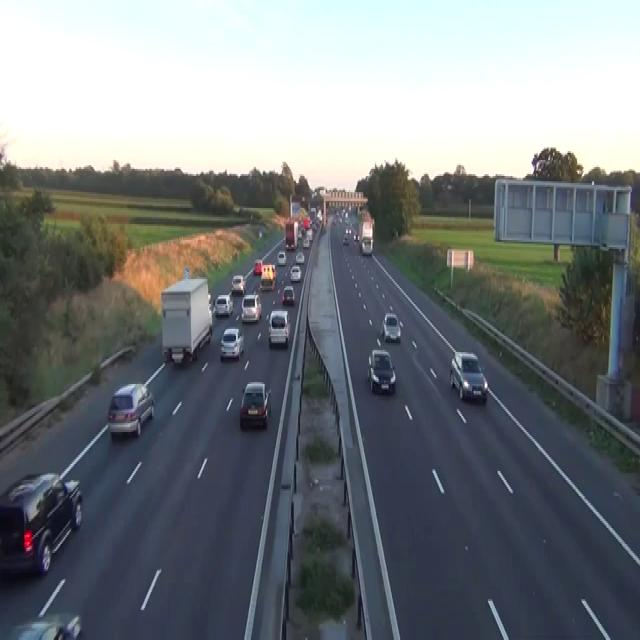Car: (0, 471, 82, 576), (1, 576, 83, 638), (107, 382, 155, 438), (449, 350, 488, 402), (7, 612, 82, 638), (239, 381, 271, 428), (367, 348, 396, 394), (267, 310, 290, 348), (220, 327, 244, 361), (381, 311, 402, 341), (240, 293, 261, 322), (213, 294, 233, 316), (260, 263, 276, 290), (282, 284, 295, 306), (230, 274, 245, 293), (262, 263, 276, 279), (207, 292, 212, 336), (360, 237, 372, 254), (362, 220, 373, 238), (289, 265, 301, 281), (253, 258, 262, 274), (277, 251, 286, 265), (305, 228, 313, 242), (295, 251, 304, 263), (207, 292, 212, 311), (303, 215, 310, 228), (285, 240, 295, 249), (271, 263, 276, 277), (311, 219, 318, 229), (342, 234, 349, 243), (302, 238, 309, 247), (316, 210, 322, 220), (297, 228, 303, 238), (345, 226, 351, 234), (353, 233, 358, 242), (258, 228, 262, 236)
Truck: (160, 274, 212, 364), (357, 210, 374, 254), (284, 219, 298, 249)
